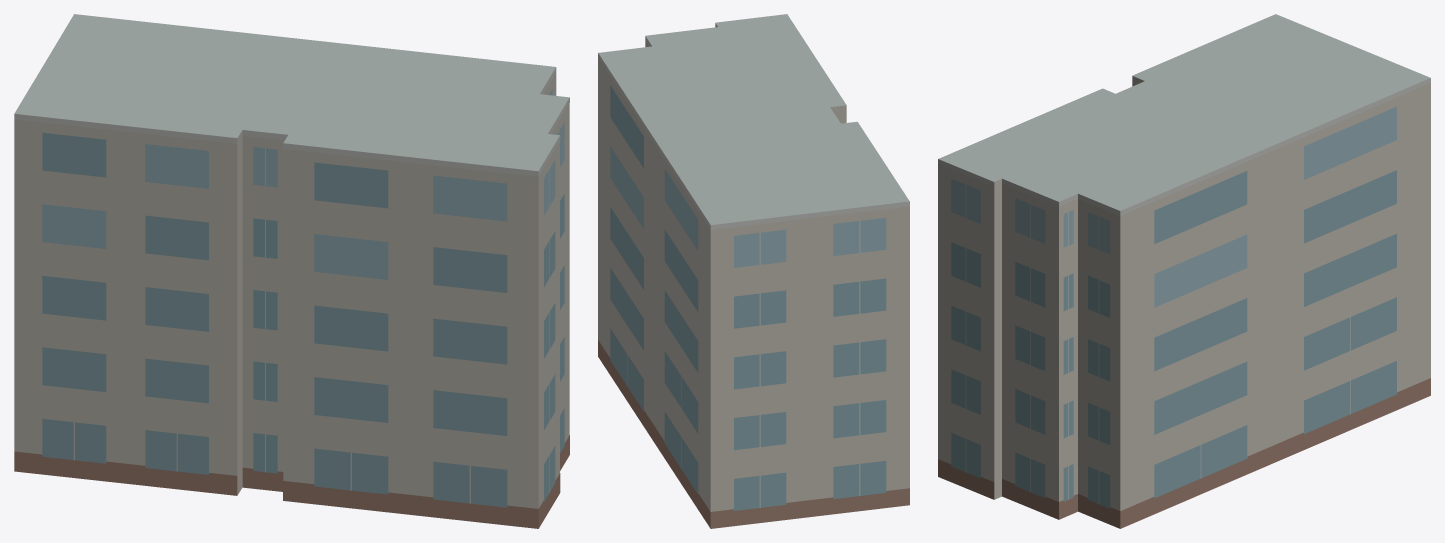
Rendered from survey-upis-32691459.glb.
The picture shows the model from 3 angles, left to right: view 1: azimuth 30°, elevation 25°; view 2: azimuth 150°, elevation 25°; view 3: azimuth 270°, elevation 25°; orthographic projection. The views are drawn at different scales.
Visible parts, largest first — view 1: survey-upis-32691459.tmp; view 2: survey-upis-32691459.tmp; view 3: survey-upis-32691459.tmp.
Part boxes in pixels (x1=…): survey-upis-32691459.tmp: x1=14, y1=14, x2=569, y2=528; survey-upis-32691459.tmp: x1=598, y1=14, x2=909, y2=528; survey-upis-32691459.tmp: x1=938, y1=14, x2=1430, y2=528.
Bounding box in the file's own units: 20.62 × 15.5 × 21.78.
